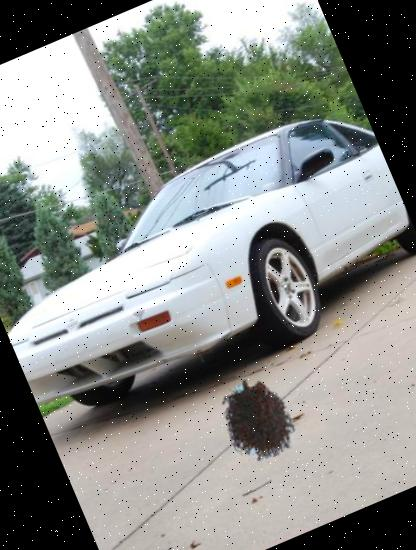Rambutan: (204, 365, 312, 473)
